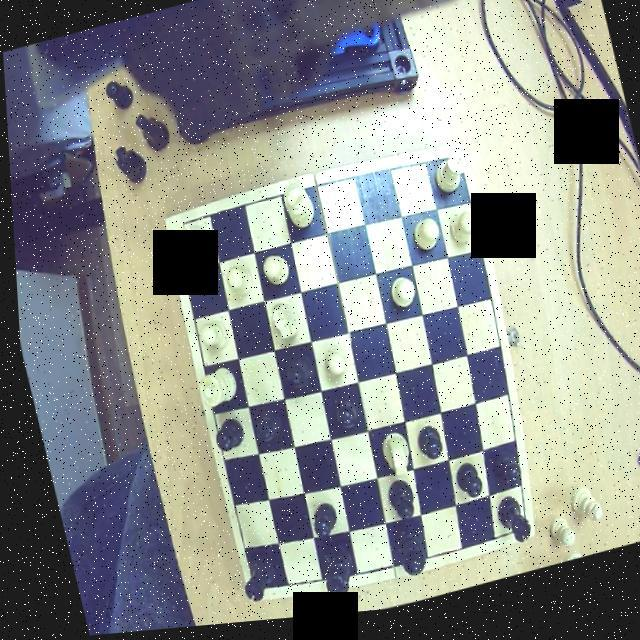chess-table-corners: (440, 154, 467, 184), (236, 574, 258, 606), (163, 215, 189, 242), (504, 524, 526, 552)
